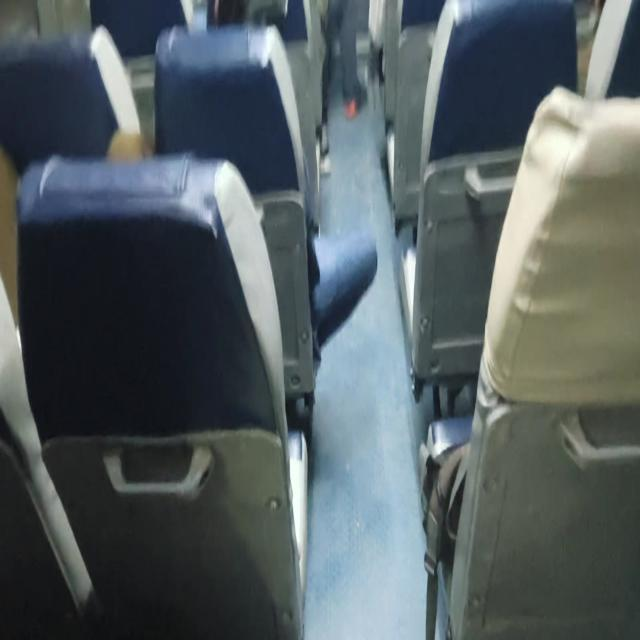person: (216, 0, 273, 36)
